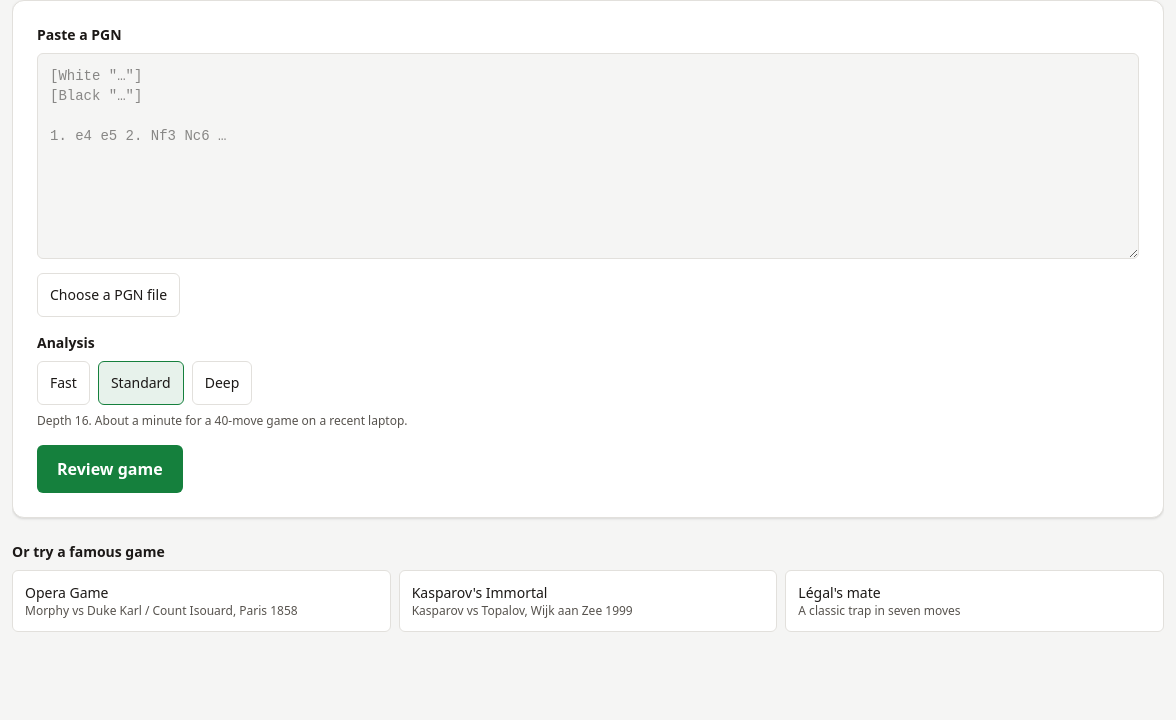
Scenario: HomeClient › asks for input when the box is empty
Click the button "Review game": x=110, y=469 x1=37 y1=445 x2=183 y2=493
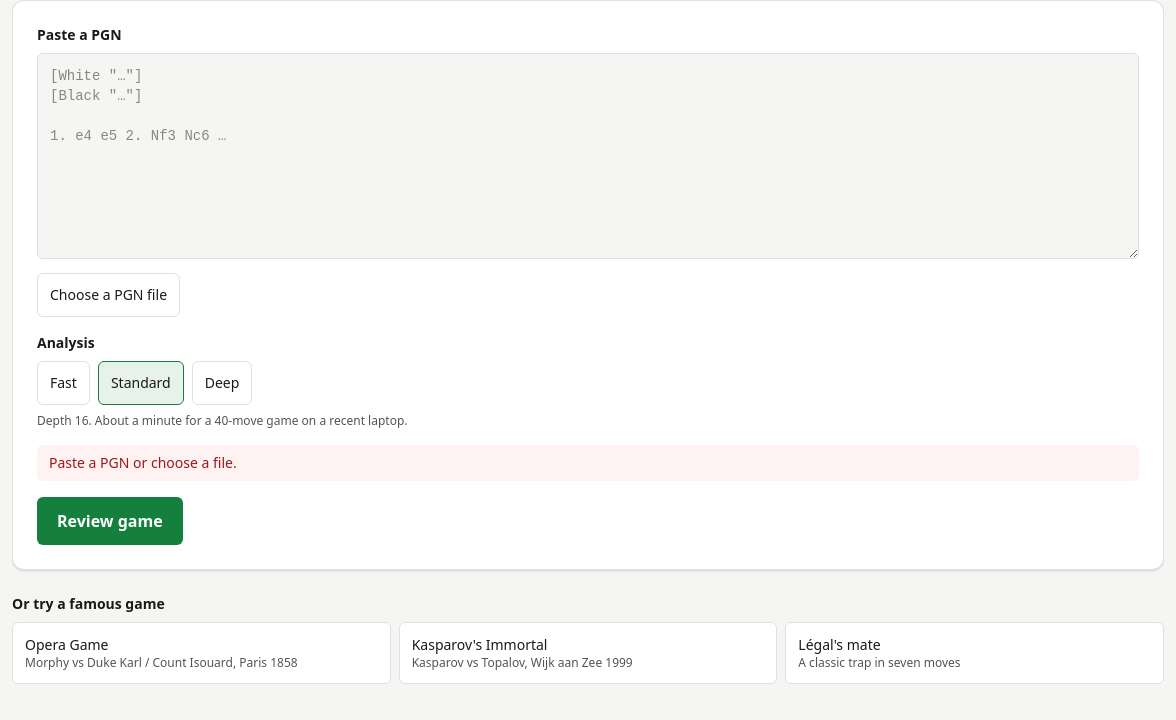
Check: the message reads "Paste a PGN or choose a file.", box x1=49 y1=453 x2=237 y2=472
